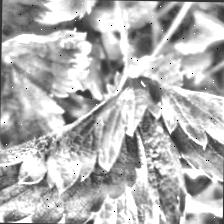Powdery Mildew Leaf: (0, 72, 164, 224), (145, 81, 224, 183)
